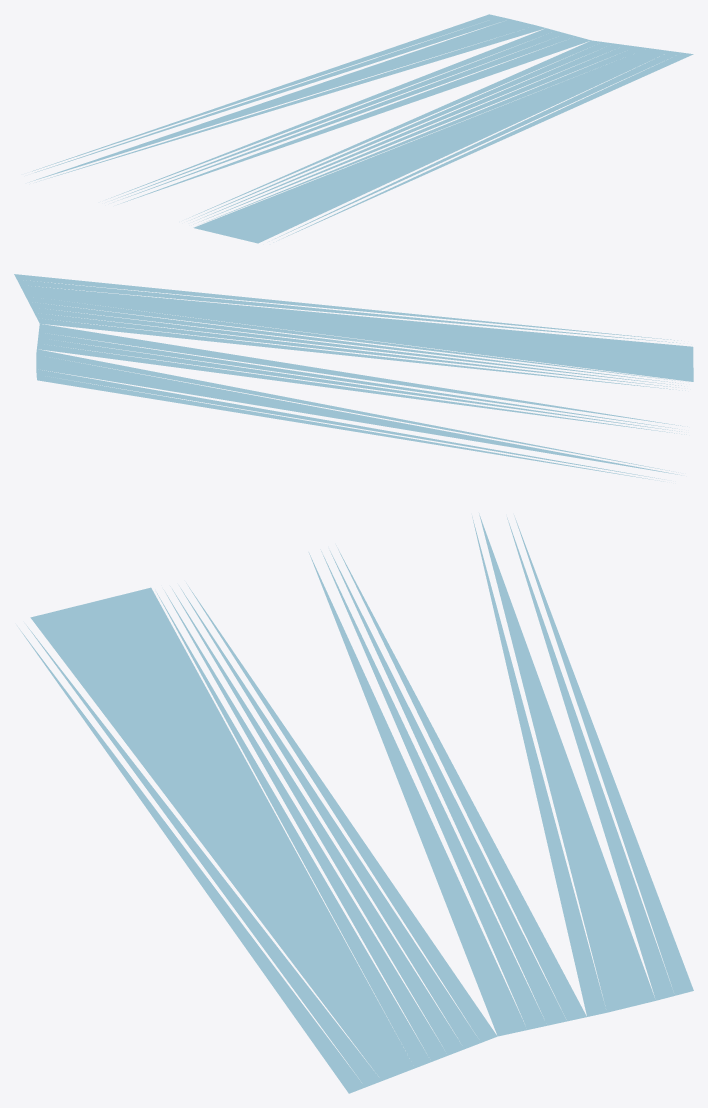
Rendered from terrain-context-C-x-1-z-1.glb.
3 views of the same model, one above another, from view 1: azimuth 30°, elevation 25°; view 2: azimuth 150°, elevation 25°; view 3: azimuth 270°, elevation 25° (orthographic). The views are drawn at different scales.
Visible parts, largest first — view 1: C-x-1-z-1; view 2: C-x-1-z-1; view 3: C-x-1-z-1.
Part boxes in pixels (x1=…): C-x-1-z-1: x1=29, y1=14, x2=693, y2=243; C-x-1-z-1: x1=14, y1=274, x2=693, y2=481; C-x-1-z-1: x1=17, y1=513, x2=693, y2=1093.
Size of the model in its own units: 308 by 2.04e-05 by 152.
